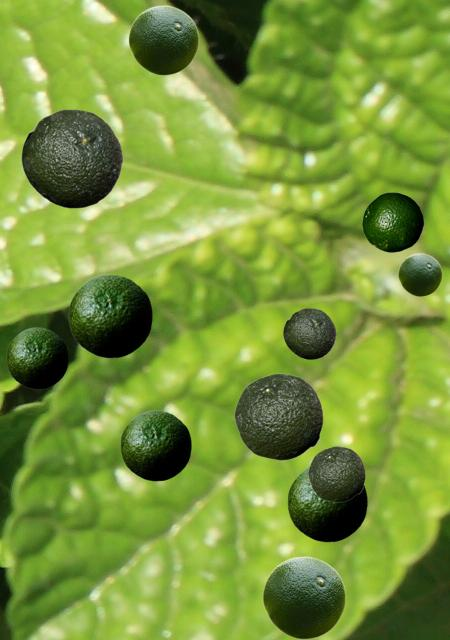calamansi: (21, 109, 122, 207), (234, 373, 322, 459), (68, 274, 151, 357), (262, 556, 345, 638), (287, 466, 366, 541), (120, 410, 190, 480), (128, 5, 198, 74), (6, 327, 67, 388), (362, 192, 423, 251), (308, 446, 364, 501), (283, 308, 335, 358), (398, 253, 441, 295)
